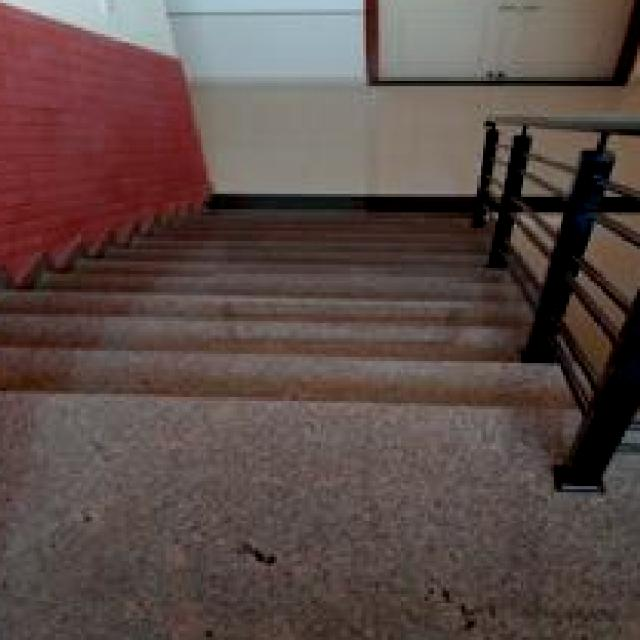downstair: (19, 250, 472, 469)
